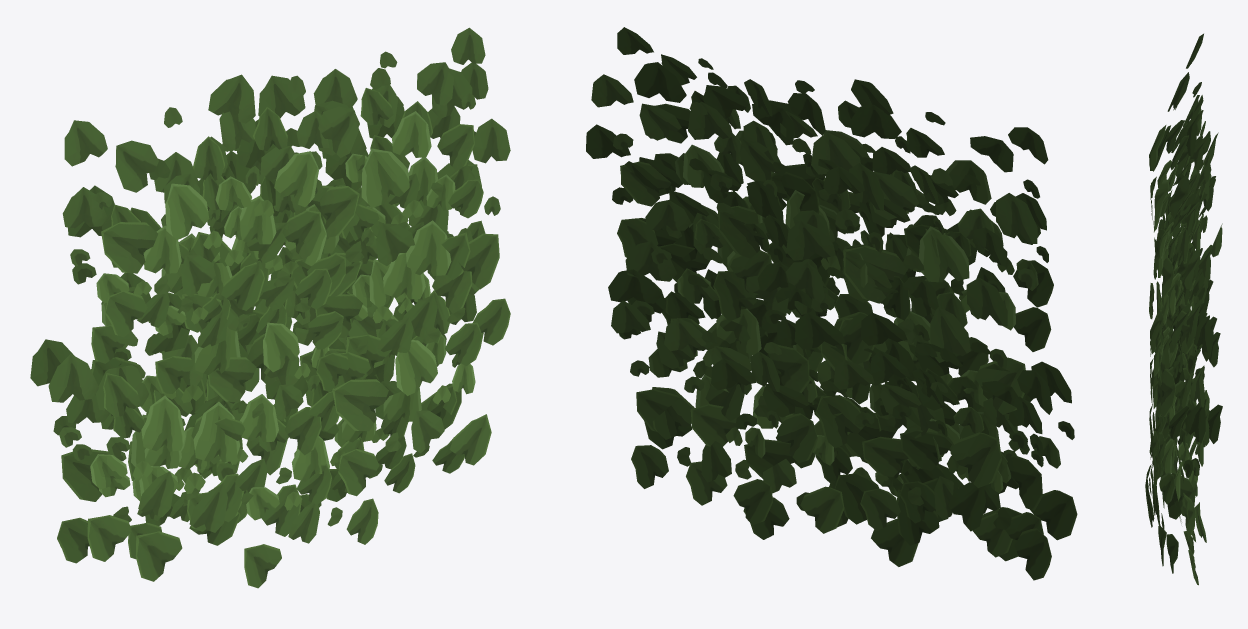
The model's file is SM_Env_Vines_01.fbx.
3 renders of one model, left to right at view 1: azimuth 30°, elevation 25°; view 2: azimuth 150°, elevation 25°; view 3: azimuth 270°, elevation 25°, orthographic. The views are drawn at different scales.
Visible parts, largest first — view 1: SM_Env_Vines_01_LOD0; view 2: SM_Env_Vines_01_LOD0; view 3: SM_Env_Vines_01_LOD0.
Part boxes in pixels (left/top/right/bottom): SM_Env_Vines_01_LOD0: left=30, top=27, right=510, bottom=588; SM_Env_Vines_01_LOD0: left=586, top=27, right=1077, bottom=580; SM_Env_Vines_01_LOD0: left=1145, top=33, right=1222, bottom=585.
Size of what is drawn, in the model's own units: 381 by 395 by 67.8.
